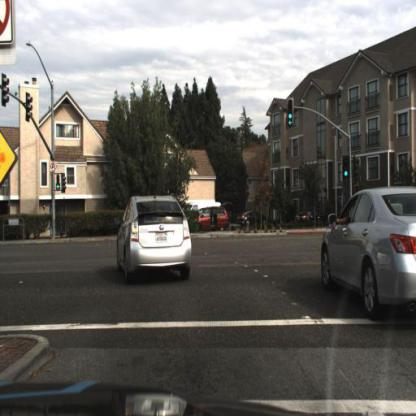car: (319, 190, 416, 322), (117, 187, 203, 290), (116, 193, 193, 283), (193, 201, 233, 236), (192, 204, 232, 233), (236, 212, 271, 233), (296, 206, 326, 227)
trafficLight: (287, 96, 297, 129), (342, 155, 352, 184), (52, 179, 63, 201)
trafficLight-GreenLeft: (55, 171, 64, 193)
